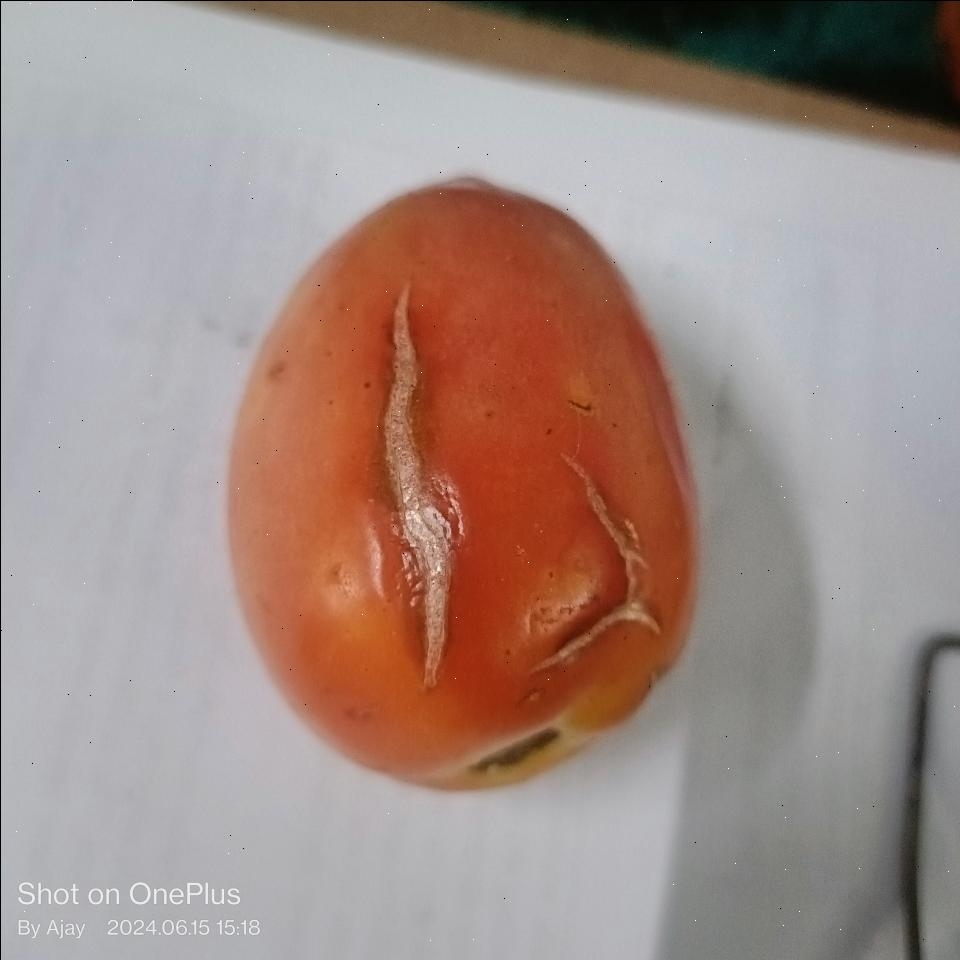Cracking: (376, 262, 454, 684), (526, 438, 663, 673)
